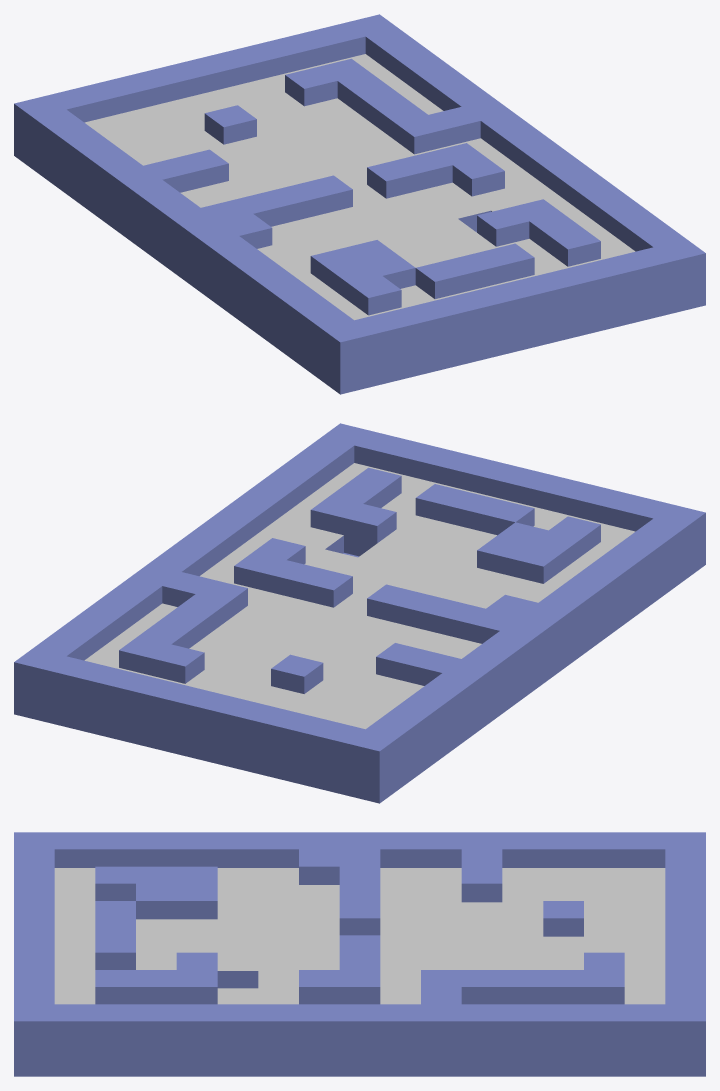
The model's file is 095_platform.fbx.
The picture shows the model from 3 angles, top to bottom: view 1: azimuth 30°, elevation 25°; view 2: azimuth 150°, elevation 25°; view 3: azimuth 270°, elevation 25°; orthographic projection. The views are drawn at different scales.
Parts seen in each view (by area): view 1: Grid; view 2: Grid; view 3: Grid.
Boxes of the visible parts, x1=… form: Grid: x1=14, y1=14, x2=705, y2=394; Grid: x1=14, y1=423, x2=705, y2=803; Grid: x1=14, y1=832, x2=705, y2=1076.
Size of the model in its own units: 1100 by 150 by 1700.
